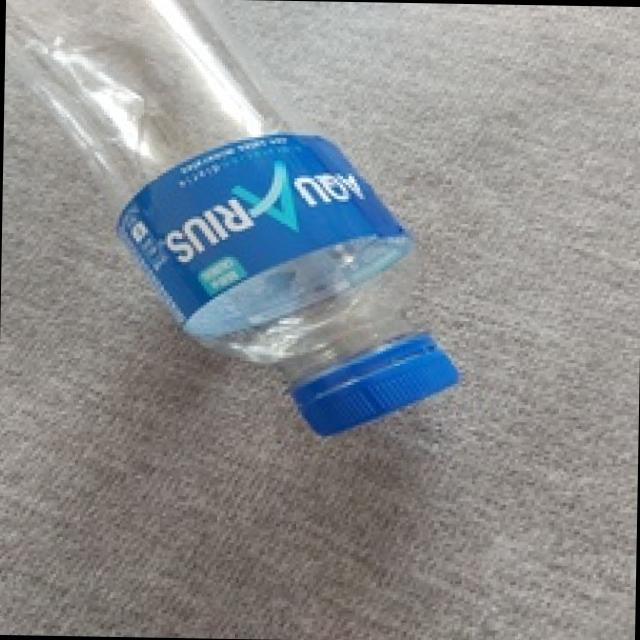good: (0, 0, 502, 449)
